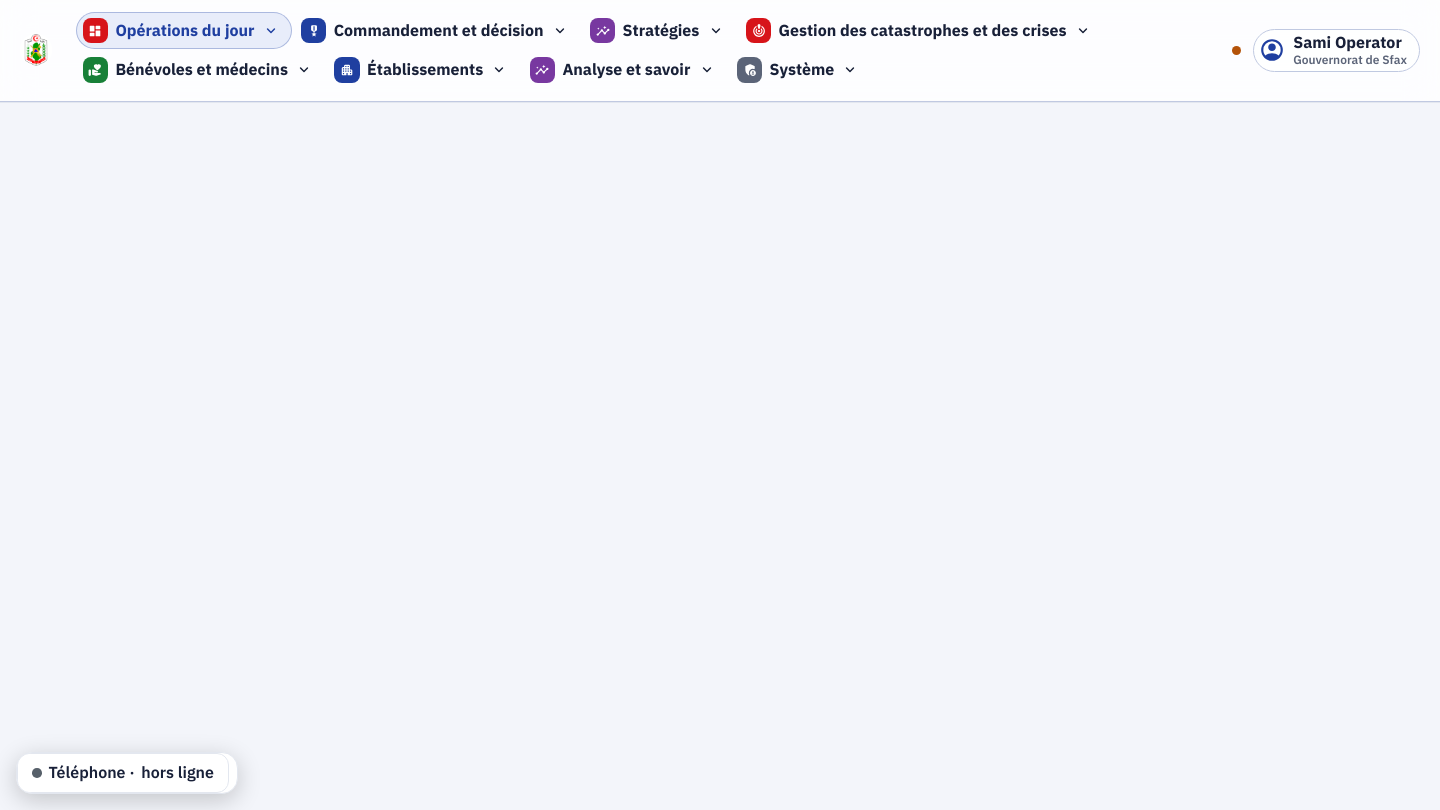
Test: Layout › main_menu: grouped by default, a group opens and closes from the keyboard
Expected: the link "Signalements" is not shown
Click the button "Opérations du jour" at (184, 31), box [76, 12, 292, 49]
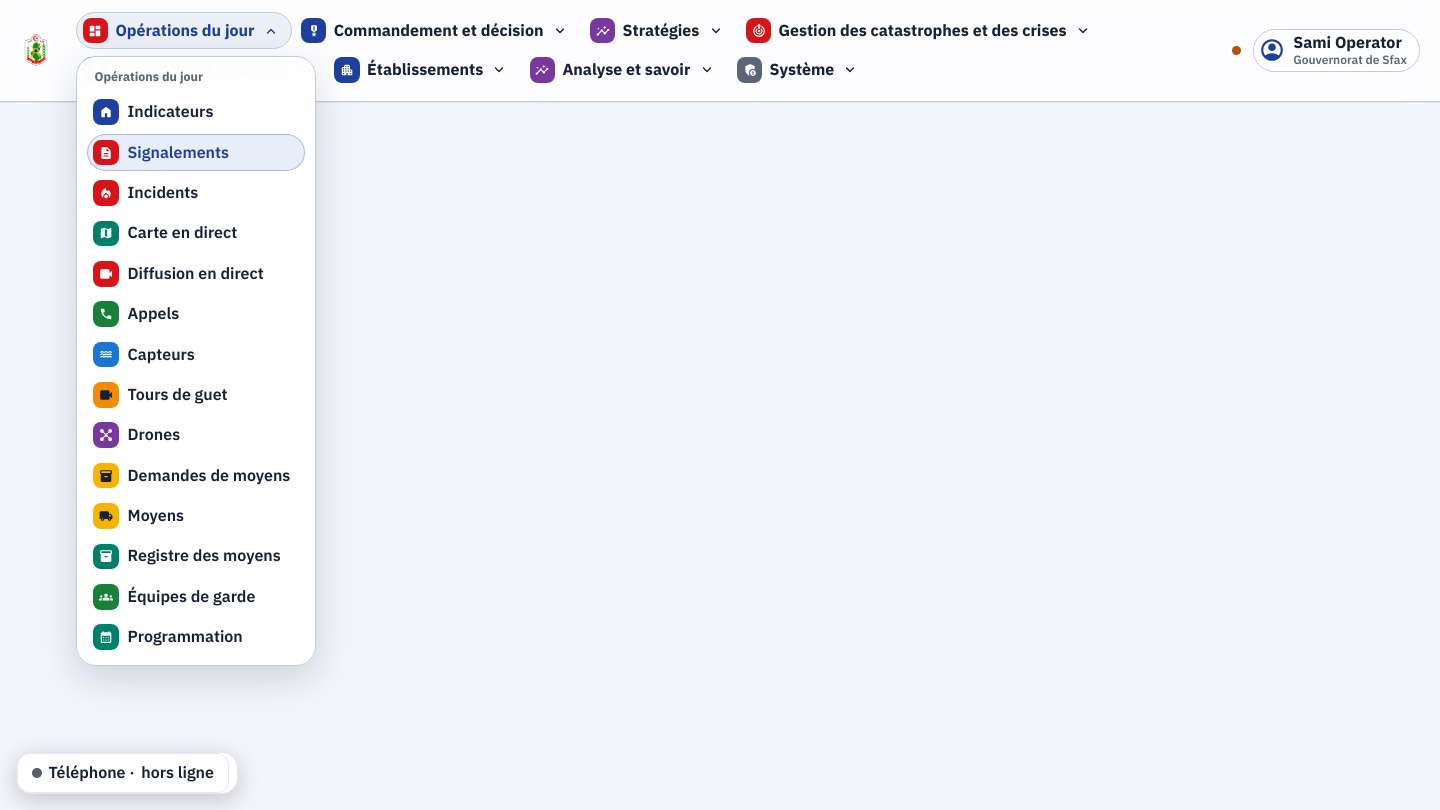
Now the button "Opérations du jour" is expanded
Press Escape in the button "Opérations du jour", box [76, 12, 292, 49]
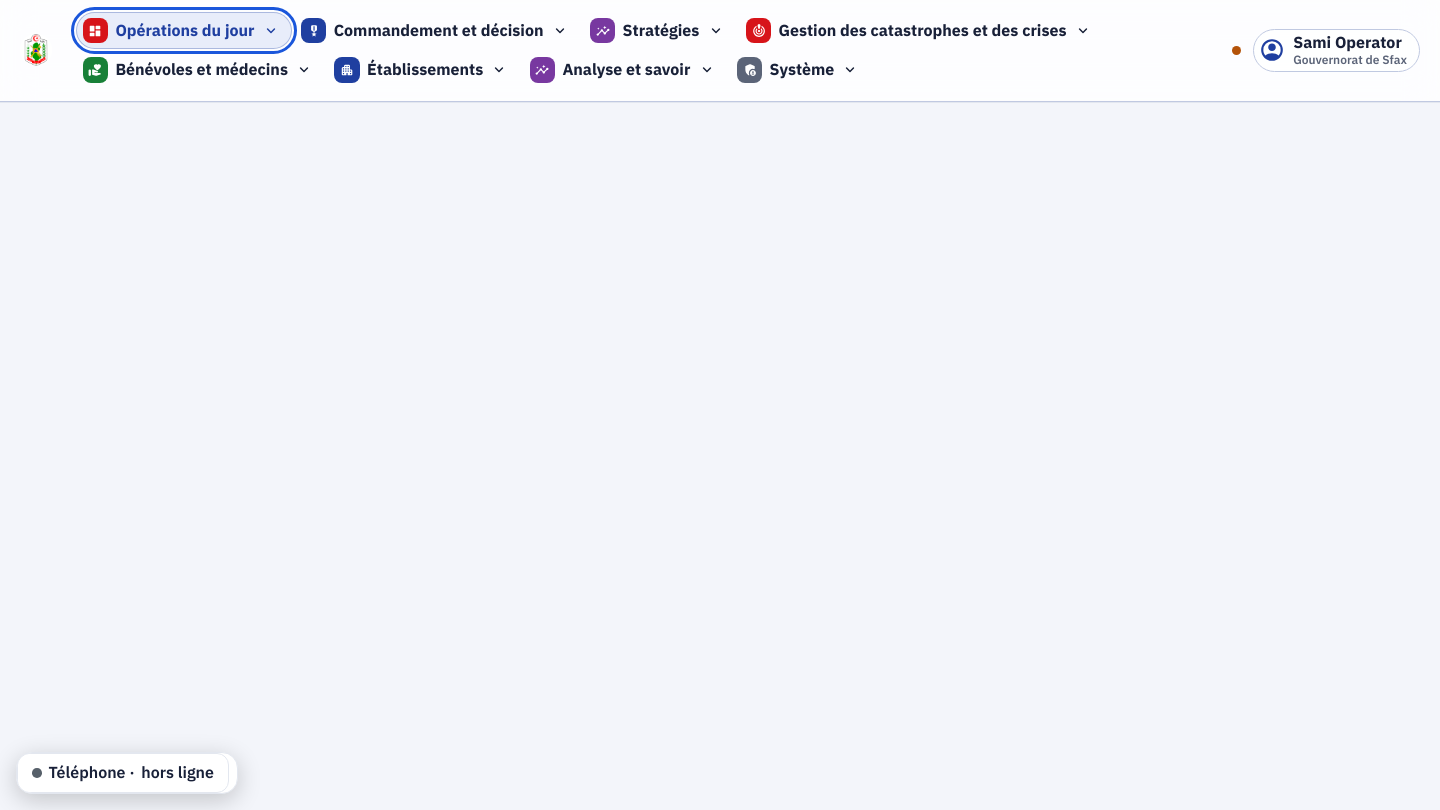
Now the button "Opérations du jour" is collapsed, box [76, 12, 292, 49]
